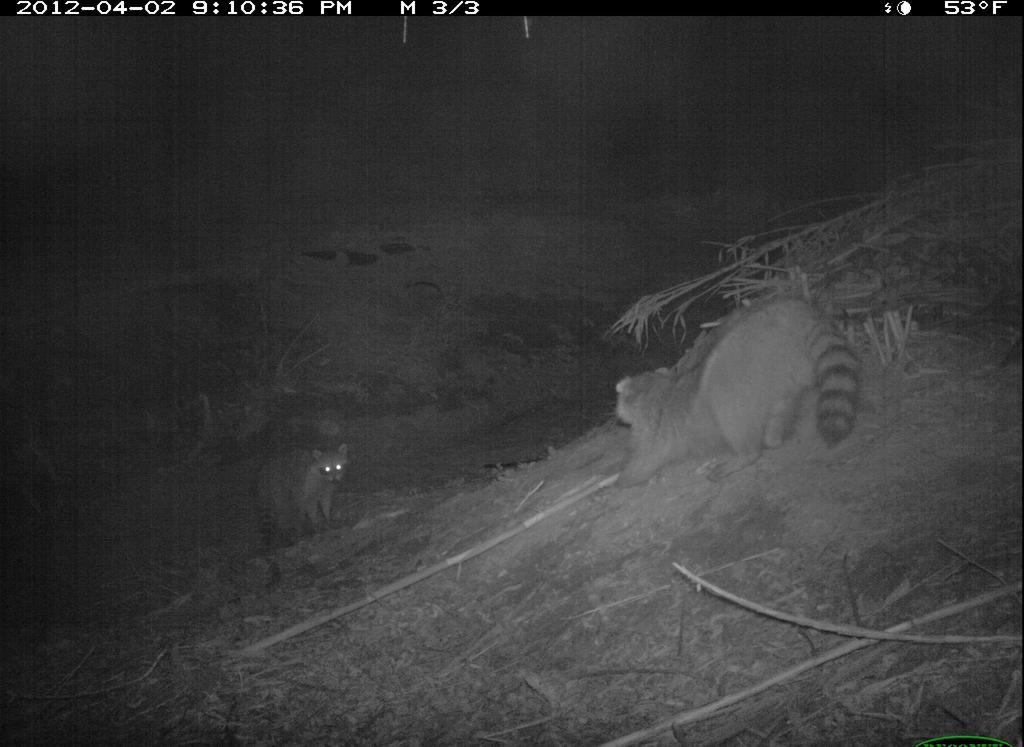raccoon: (609, 292, 865, 493), (233, 433, 355, 551)
